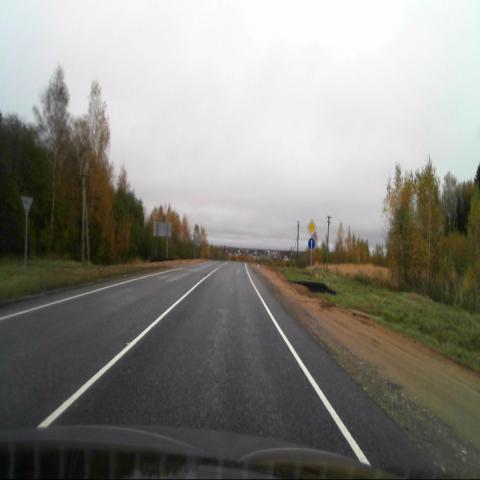2_1: (307, 219, 316, 236)
4_1_1: (308, 238, 315, 250)
